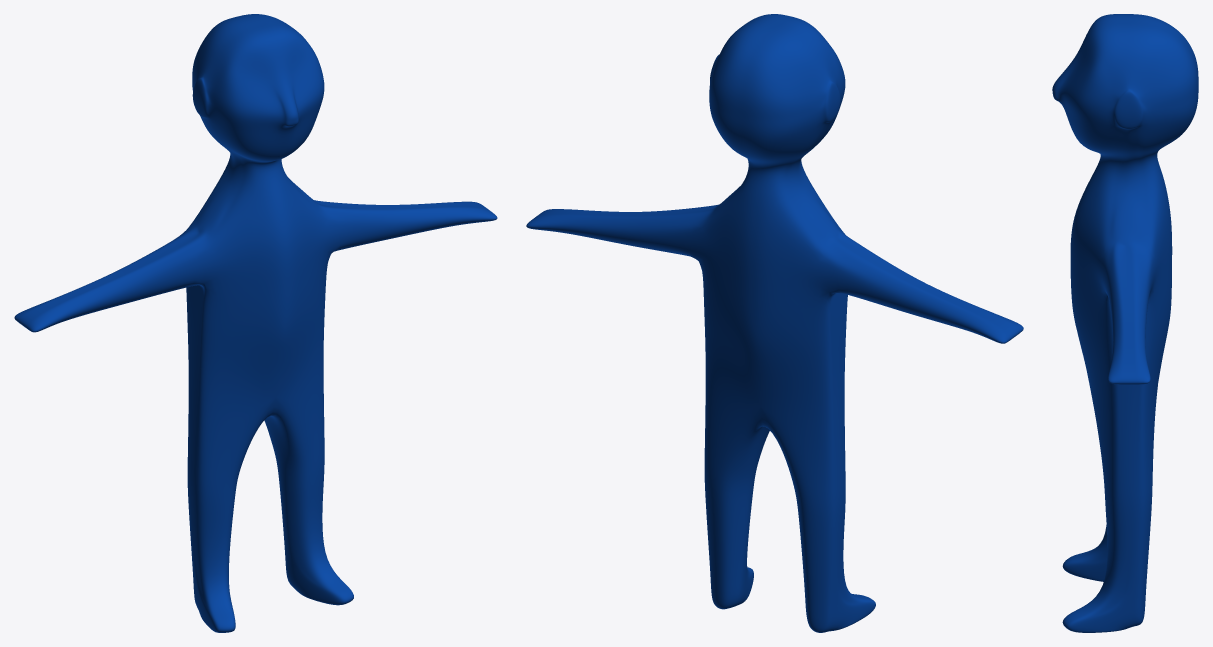
File: uncannyMesh.fbx
3 renders of one model, left to right at view 1: azimuth 30°, elevation 25°; view 2: azimuth 150°, elevation 25°; view 3: azimuth 270°, elevation 25°, orthographic. The views are drawn at different scales.
Visible parts, largest first — view 1: Mesh; view 2: Mesh; view 3: Mesh.
Part boxes in pixels (x1,y1,x2,y2): Mesh: [14, 14, 497, 632]; Mesh: [526, 14, 1023, 632]; Mesh: [1052, 14, 1198, 632].
Size of the model in its own units: 501 by 592 by 135.
